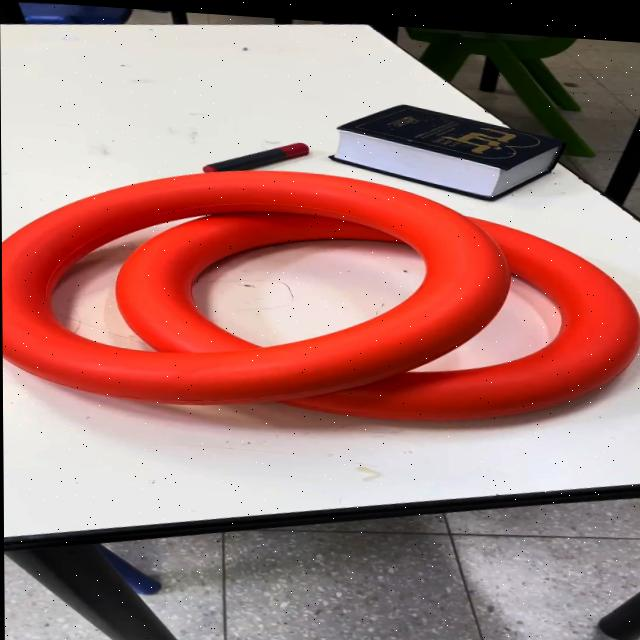note: (1, 149, 512, 422), (113, 187, 639, 430)
